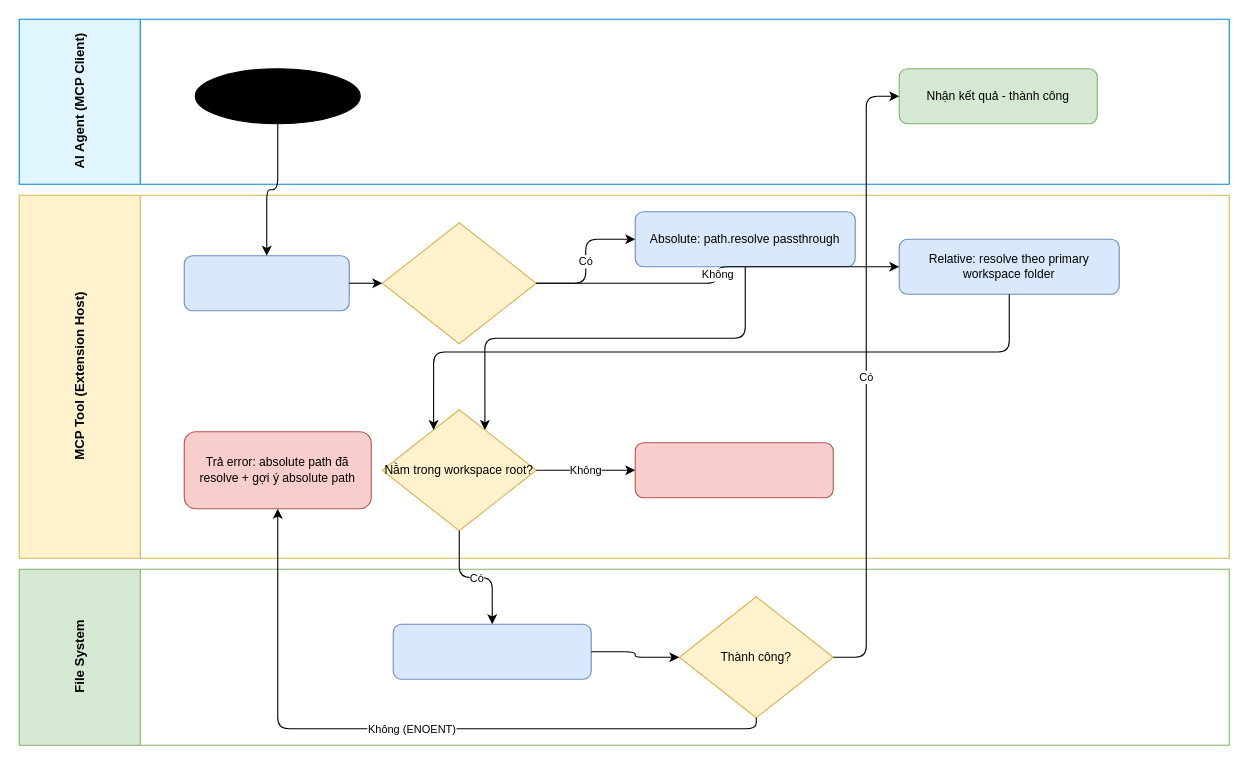
Some shapes in this 1249 by 765 pixel diagram are drawn without their labels. The shapes that lost their labels are listed below. From the top down, each one's centre as x and y in pixels, then its label:
the point at 277,96: Gọi MCP tool với file_path
the point at 266,283: Tool nhận file_path
the point at 458,283: Là absolute path?
the point at 733,470: Từ chối - path ngoài workspace
the point at 491,651: Thao tác file (đọc / ghi / attach)
